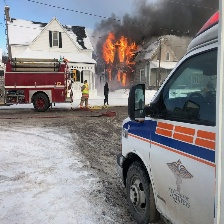fire: (104, 34, 139, 87)
smoke: (94, 1, 219, 36)
